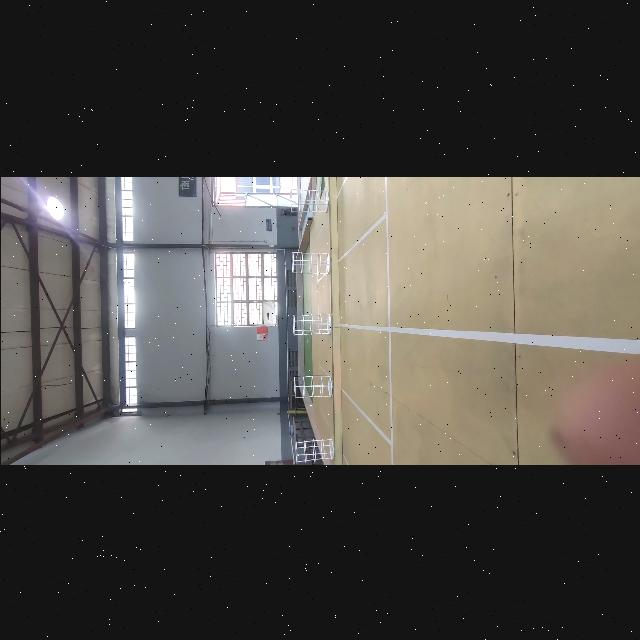S: (294, 437, 334, 463), (290, 186, 328, 212), (291, 250, 331, 274), (292, 312, 332, 336), (294, 374, 332, 398)
